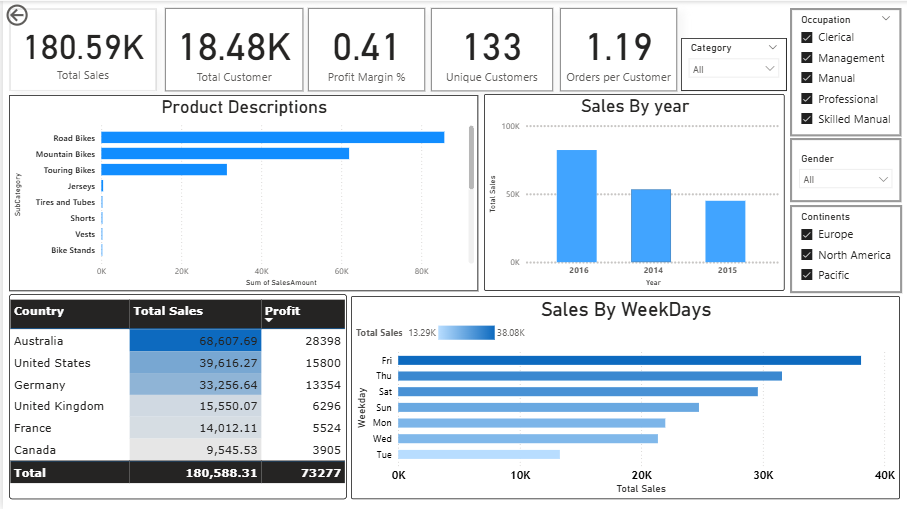

This screenshot's page, from the dashboard's own definition file:
{"tool":"powerbi","page":{"name":"Page 1","canvas":[1280,720],"ordinal":0},"visuals":[{"type":"card","fields":{"Values":["Sales.Total Sales"]},"box":[9.9,11.3,206.9,116.2],"z":0},{"type":"card","fields":{"Values":["CountNonNull(Customers.CustomerKey)"]},"box":[229,9.4,196.1,117.6],"z":1000},{"type":"card","fields":{"Values":["Sales.Profit Margin %"]},"box":[432.9,9.4,166.3,117.6],"z":2000},{"type":"card","fields":{"Values":["Sales.Unique Customers"]},"box":[607.1,9.4,172.5,117.6],"z":3000},{"type":"card","fields":{"Values":["Sales.Orders per Customer"]},"box":[789,9.4,166.3,117.6],"z":4000},{"type":"actionButton","box":[0,0,100,40],"z":5000},{"type":"tableEx","fields":{"Values":["Territory.Country","Sales.Total Sales","Sales.Profit"]},"box":[8.5,415.3,479.1,290.6],"z":6000},{"type":"columnChart","title":"Sales By year","fields":{"Category":["Calender.Year"],"Y":["Sales.Total Sales"]},"box":[681.1,132.5,426.2,279.4],"z":7000},{"type":"slicer","fields":{"Values":["Customers.Gender"]},"box":[1115.3,194.5,158.4,91],"z":8000},{"type":"slicer","fields":{"Values":["Territory.Continents"]},"box":[1115.4,289.1,158.7,124.7],"z":9000},{"type":"slicer","fields":{"Values":["Customers.Occupation"]},"box":[1115.3,9.4,158.4,182],"z":10000},{"type":"barChart","title":"Sales By WeekDays","fields":{"Category":["Calender.Weekday"],"Y":["Sales.Total Sales"]},"box":[493.2,418.1,778,287.7],"z":11000},{"type":"barChart","title":"Product Descriptions","fields":{"Y":["Sum(Sales.SalesAmount)"],"Category":["Products.SubCategory","Products.ProductName"]},"box":[8.6,133.9,665.3,277.9],"z":12000},{"type":"slicer","fields":{"Values":["Products.Category"]},"box":[960.9,52.4,150.2,75.1],"z":13000}]}

Visuals, with their boxes in screenshot pixels (x1, y1, x2, y2), scaled from the page's 1280x720 canvas onto the 907x509 screenshot:
card - Sales.Total Sales: x1=7 y1=8 x2=154 y2=90
card - CountNonNull(Customers.CustomerKey): x1=162 y1=7 x2=301 y2=90
card - Sales.Profit Margin %: x1=307 y1=7 x2=425 y2=90
card - Sales.Unique Customers: x1=430 y1=7 x2=552 y2=90
card - Sales.Orders per Customer: x1=559 y1=7 x2=677 y2=90
actionButton: x1=0 y1=0 x2=71 y2=28
tableEx - Territory.Country x Sales.Total Sales: x1=6 y1=294 x2=346 y2=499
"Sales By year" columnChart: x1=483 y1=94 x2=785 y2=291
slicer - Customers.Gender: x1=790 y1=138 x2=903 y2=202
slicer - Territory.Continents: x1=790 y1=204 x2=903 y2=293
slicer - Customers.Occupation: x1=790 y1=7 x2=903 y2=135
"Sales By WeekDays" barChart: x1=349 y1=296 x2=901 y2=499
"Product Descriptions" barChart: x1=6 y1=95 x2=478 y2=291
slicer - Products.Category: x1=681 y1=37 x2=787 y2=90
